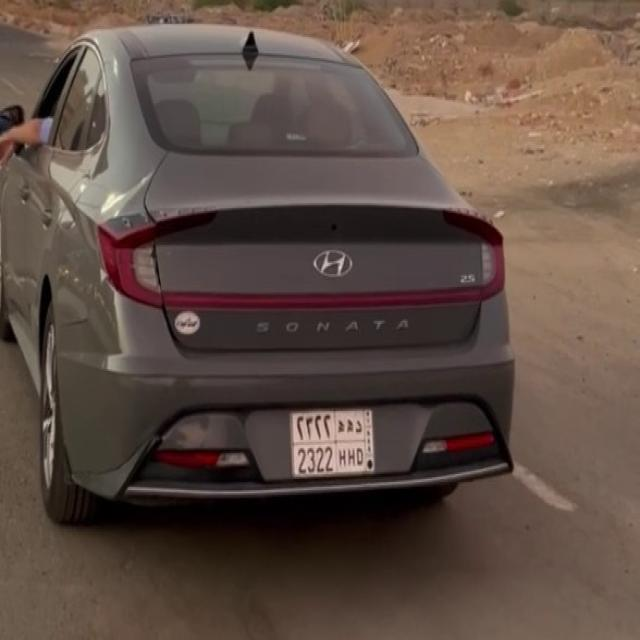Car-plate: (289, 406, 381, 482)
